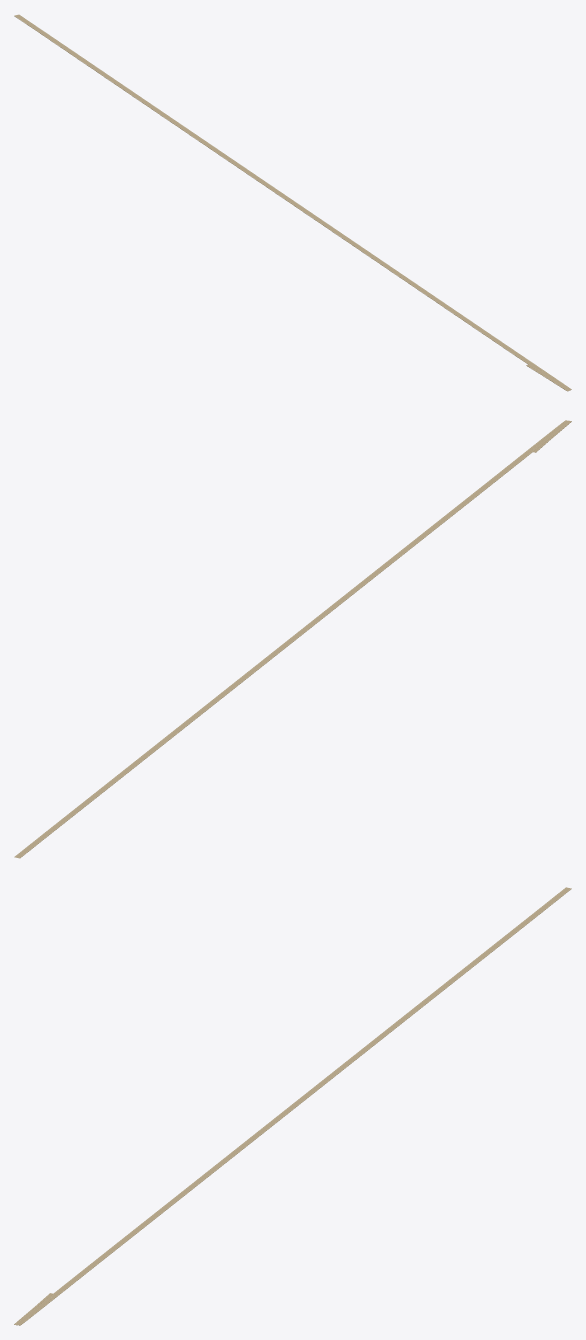
Rendered from road_roam_from_stage_mesa_run.glb.
The picture shows the model from 3 angles, top to bottom: view 1: azimuth 30°, elevation 25°; view 2: azimuth 150°, elevation 25°; view 3: azimuth 330°, elevation 25°; orthographic projection. The views are drawn at different scales.
Visible parts, largest first — view 1: road; view 2: road; view 3: road.
Part boxes in pixels (<box>): road: <box>14,14,571,391</box>; road: <box>14,420,571,858</box>; road: <box>14,887,571,1325</box>.
Size of the model in its own units: 82.78 by 0.32 by 2116.
